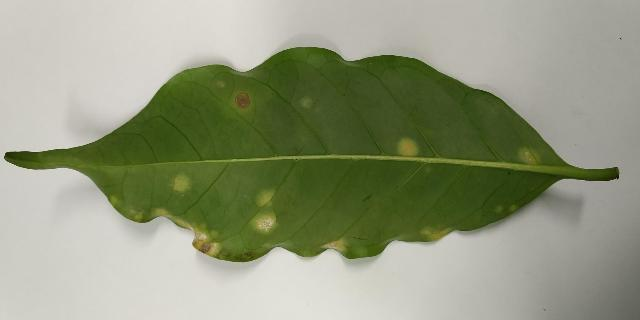miner: (153, 208, 222, 259), (252, 212, 276, 233), (396, 137, 420, 157), (520, 147, 542, 165), (421, 228, 448, 241), (322, 238, 346, 252), (172, 175, 190, 191), (258, 192, 274, 206), (236, 93, 249, 109)
